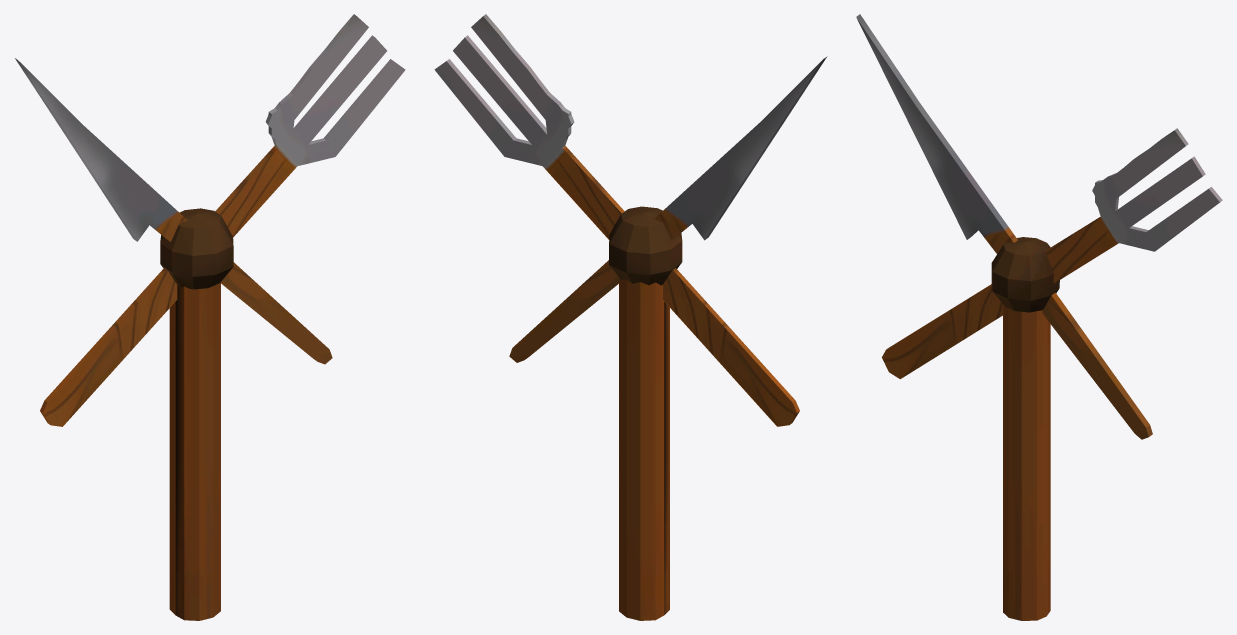
Rendered from Totem3.glb.
3 views of the same model, side by side, from view 1: azimuth 30°, elevation 25°; view 2: azimuth 150°, elevation 25°; view 3: azimuth 330°, elevation 25° (orthographic). The views are drawn at different scales.
Parts seen in each view (by area): view 1: Totem3; view 2: Totem3; view 3: Totem3.
Part boxes in pixels (x1=…): Totem3: x1=15, y1=14, x2=405, y2=620; Totem3: x1=434, y1=14, x2=827, y2=620; Totem3: x1=856, y1=14, x2=1222, y2=620.
Bounding box in the file's own units: 367 × 538 × 62.62.
1 material, 1 textured.
